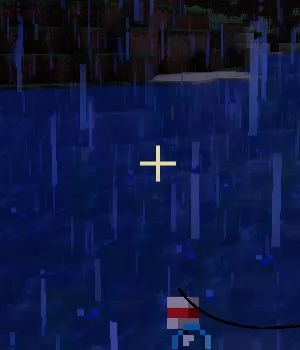up: (159, 288, 203, 334)
